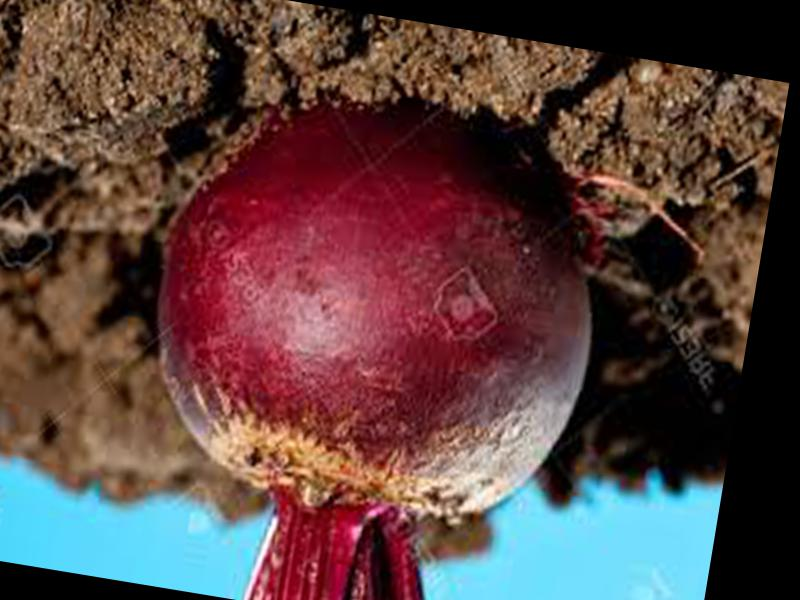Beet: (113, 74, 626, 600)
